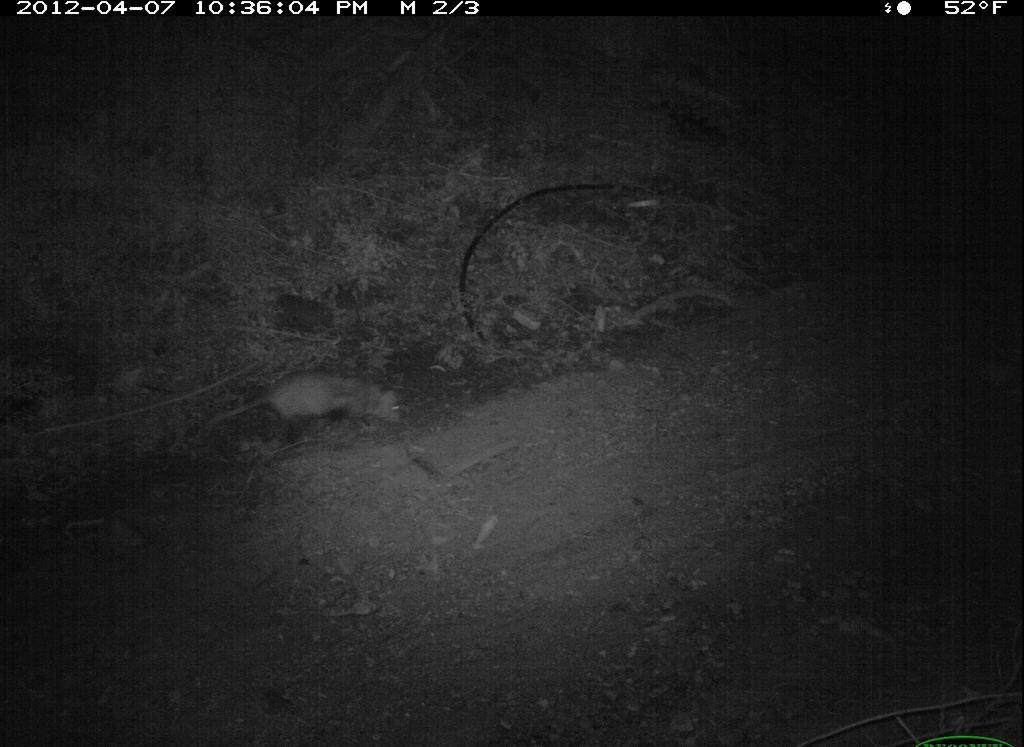opossum: (196, 358, 410, 455)
